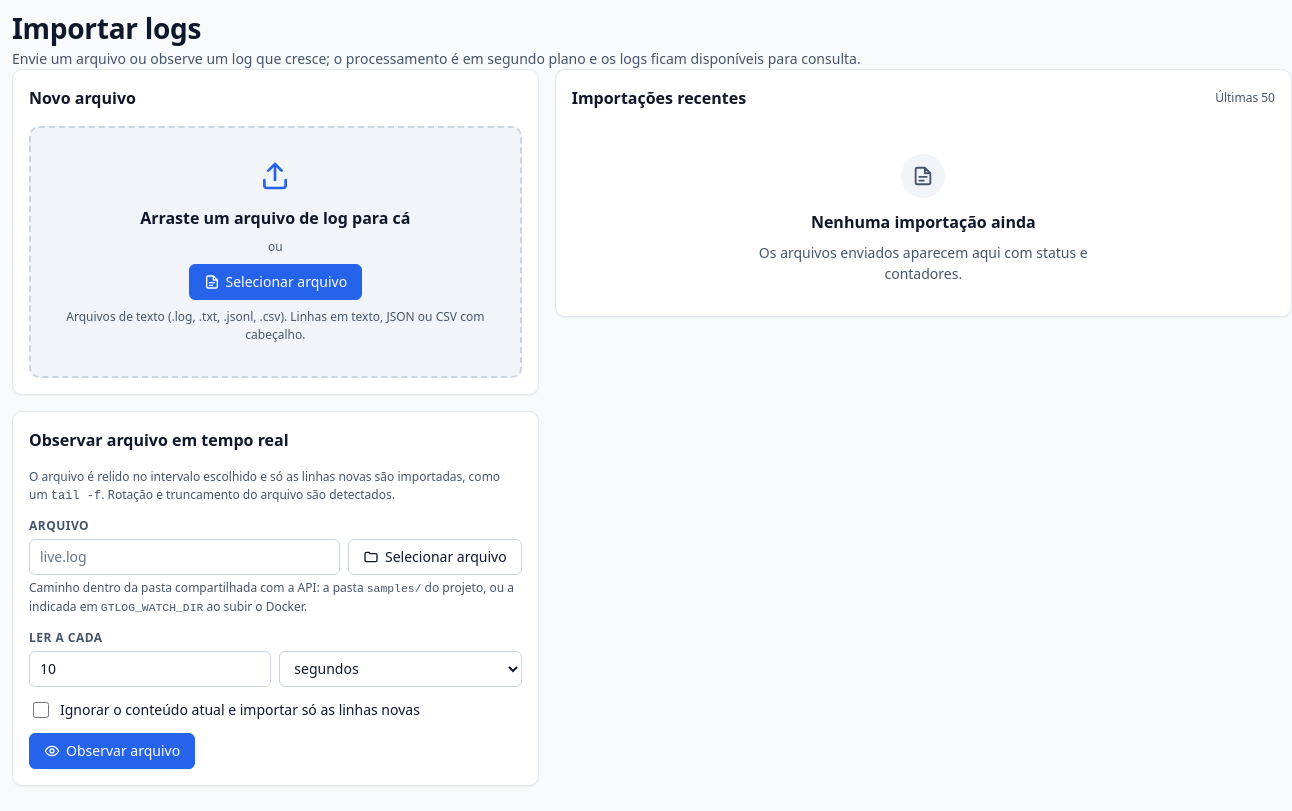
Test case: ImportsPage live watch › shows the API detail when the file is refused
In the field labelled "Arquivo": (184, 557) x1=29 y1=539 x2=340 y2=575, type "../etc/passwd"
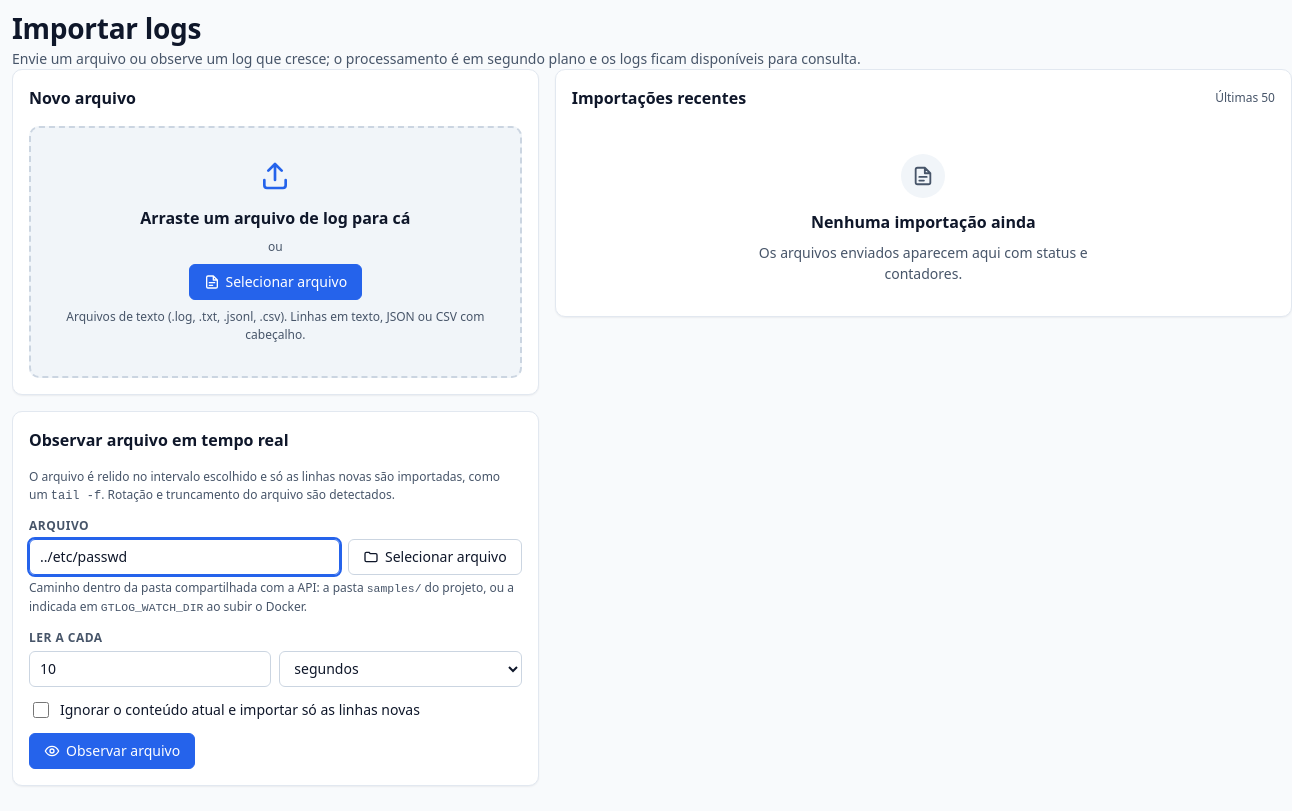
Click the button "Observar arquivo": (112, 751) x1=29 y1=733 x2=195 y2=769
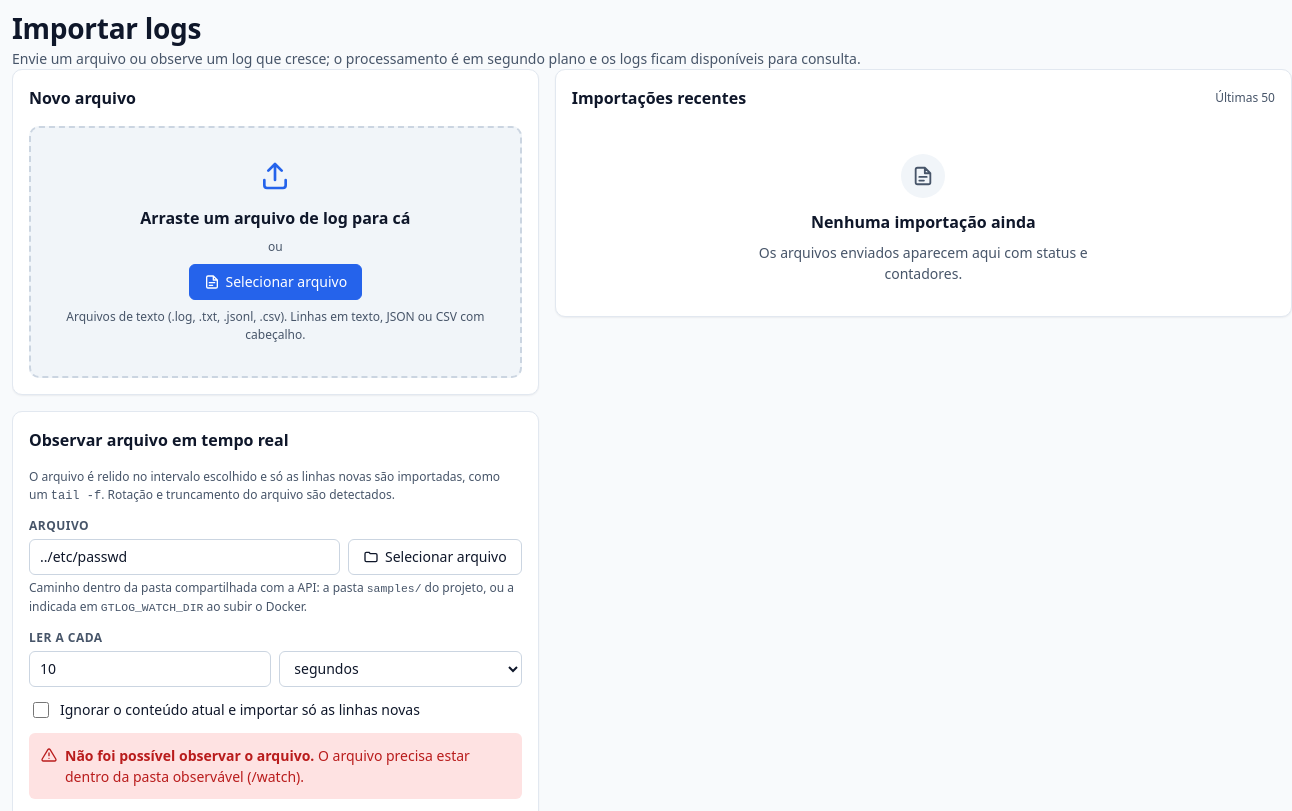
Expected: the message that starts with "Não foi possível observar o arquivo." shows "O arquivo precisa estar dentro da pasta observável (/watch).", x1=65 y1=746 x2=470 y2=786
